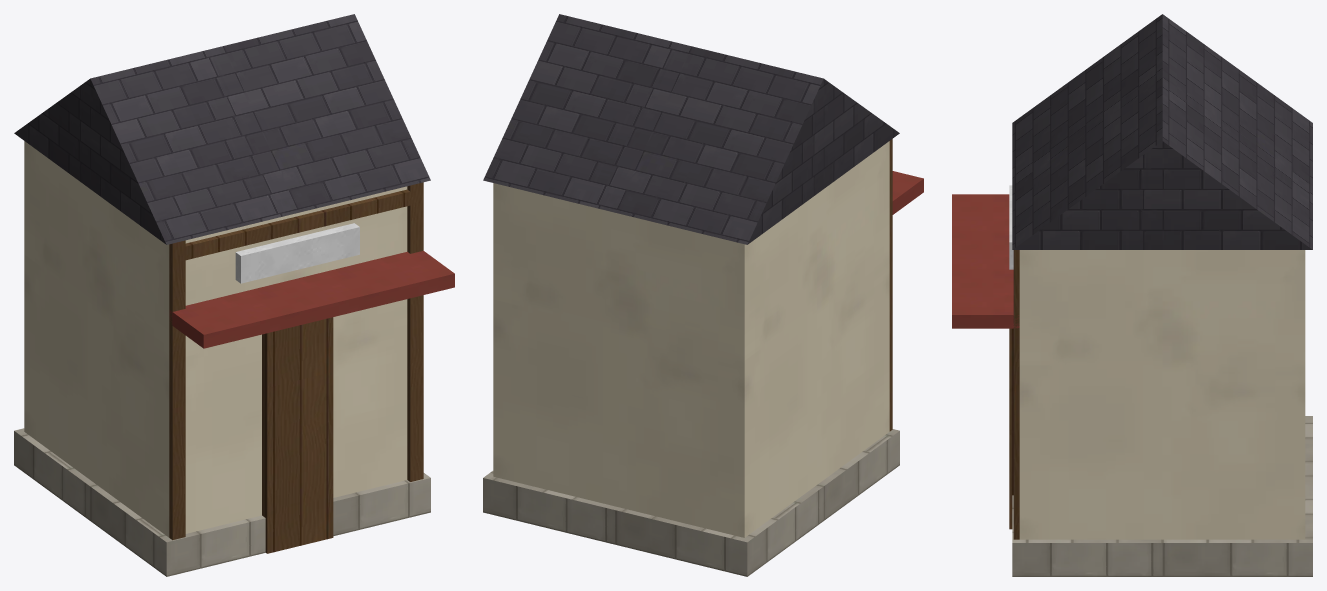
Rendered from category.dex.t0.glb.
3 renders of one model, left to right at view 1: azimuth 30°, elevation 25°; view 2: azimuth 150°, elevation 25°; view 3: azimuth 270°, elevation 25°, orthographic.
Parts seen in each view (by area): view 1: building.category.dex.t0; view 2: building.category.dex.t0; view 3: building.category.dex.t0.
Boxes of the visible parts, left/top/right/bottom form: building.category.dex.t0: left=14, top=14, right=454, bottom=576; building.category.dex.t0: left=483, top=14, right=923, bottom=576; building.category.dex.t0: left=952, top=14, right=1312, bottom=576.
Size of the model in its own units: 2 by 3.2 by 2.4.
Materials: 6 (6 with a texture image).
